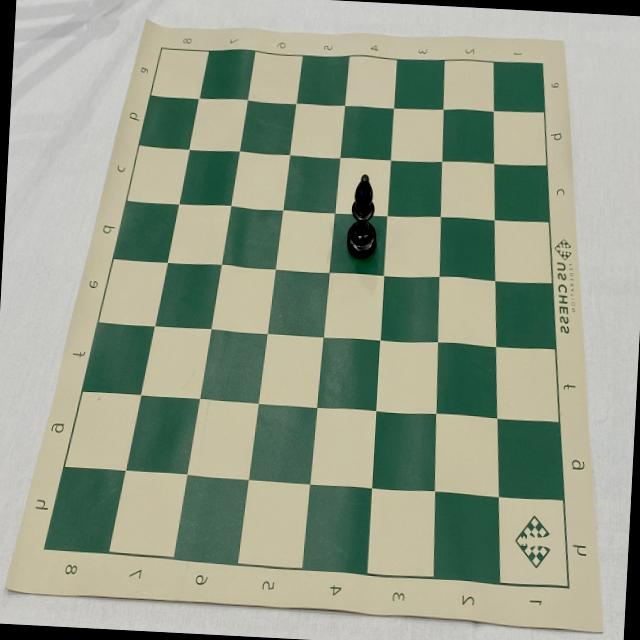black-bishop: (344, 173, 380, 260)
